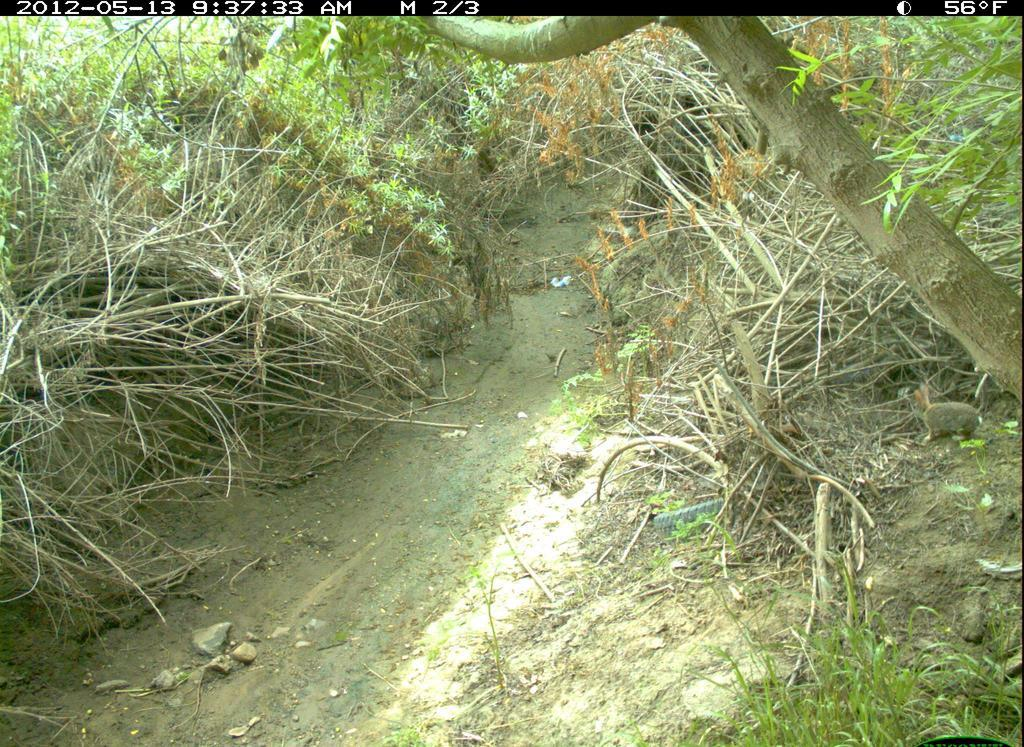rabbit: (905, 368, 985, 449)
